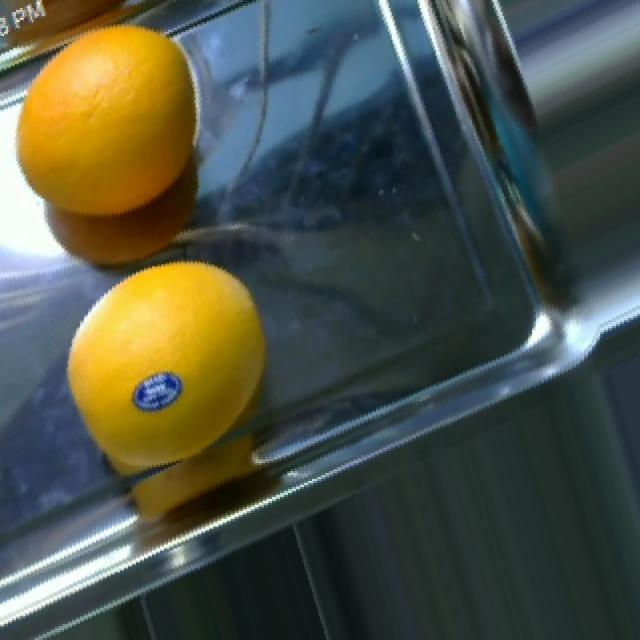Fruit: (95, 235, 293, 465)
